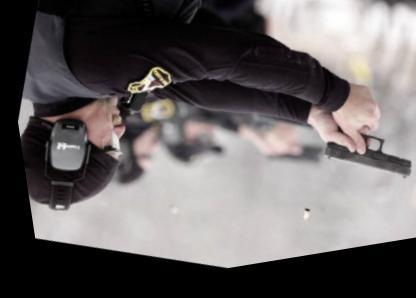pistol: (300, 106, 415, 208)
